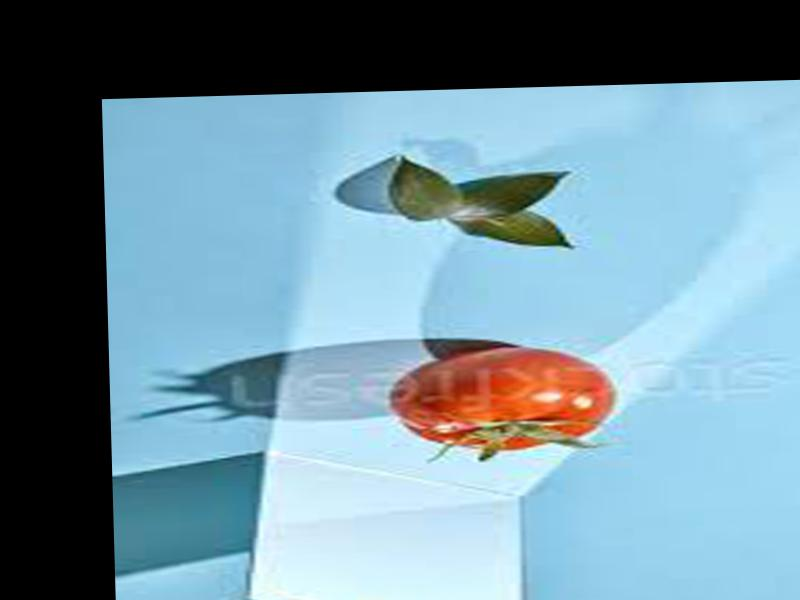Tomato: (388, 344, 622, 455)
